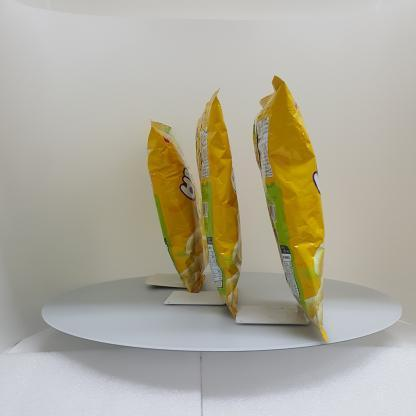Plastic Packaging: (140, 69, 249, 329), (262, 76, 328, 338)
